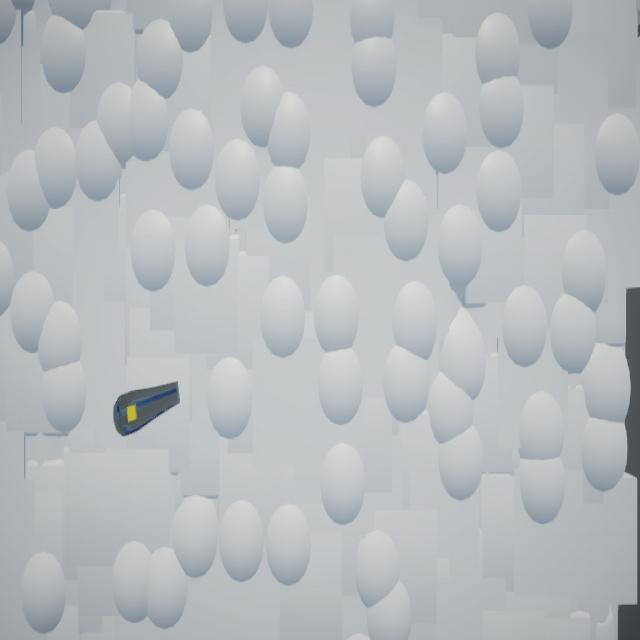handle_knife: (114, 382, 181, 439)
